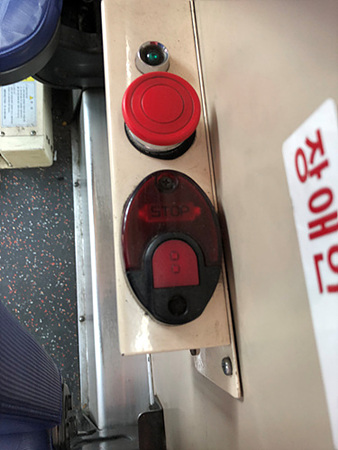bell: (121, 168, 222, 325)
